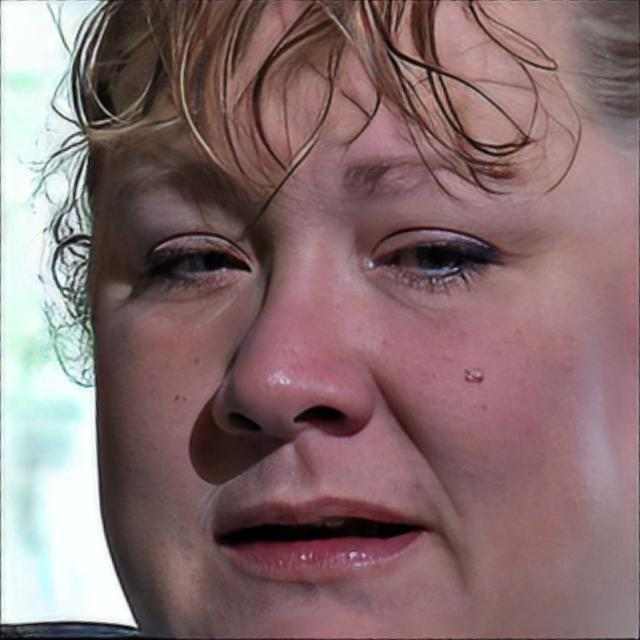sad: (93, 0, 640, 639)
